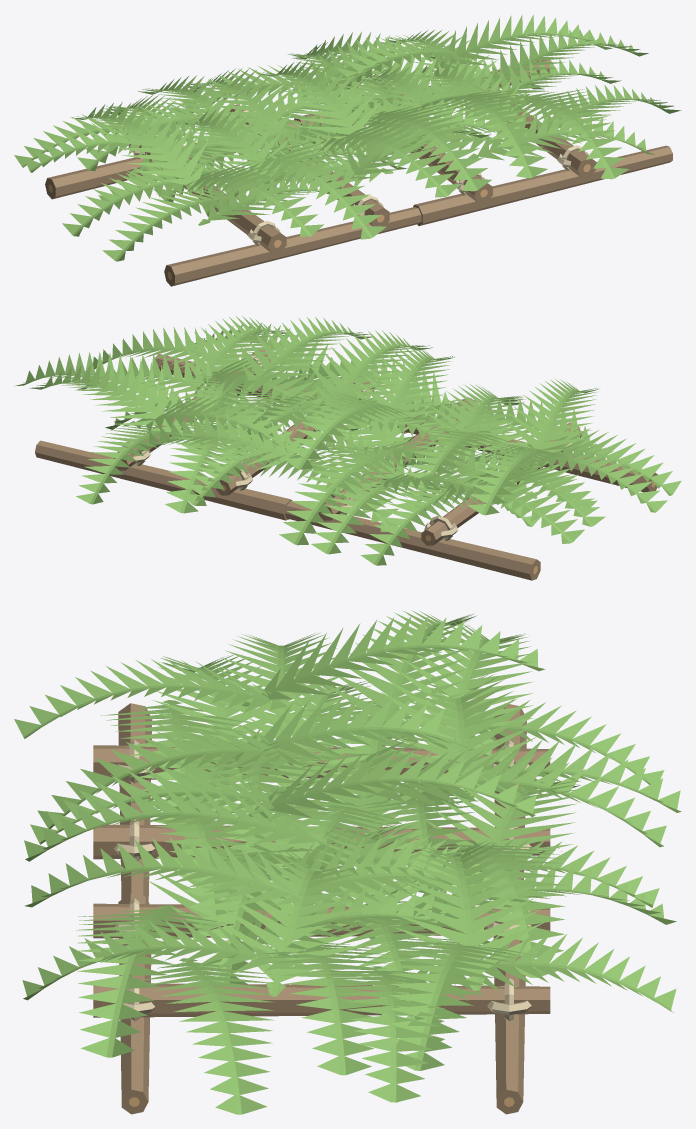
The model's file is bed_leaf.glb.
3 renders of one model, top to bottom at view 1: azimuth 30°, elevation 25°; view 2: azimuth 150°, elevation 25°; view 3: azimuth 270°, elevation 25°, orthographic. The views are drawn at different scales.
Parts seen in each view (by area): view 1: stick_01, stick_03, leaf_28, leaf_35, leaf_30, leaf_37, leaf_39, leaf_38, leaf_36, leaf_34, leaf_42, leaf_26 (+41 smaller); view 2: stick_02, leaf_42, stick_00, leaf_37, leaf_26, leaf_36, leaf_34, leaf_24, leaf_38, leaf_30, leaf_40, leaf_28 (+41 smaller); view 3: leaf_06, leaf_27, leaf_13, leaf_04, leaf_28, stick_07, leaf_26, leaf_38, leaf_12, leaf_37, leaf_20, leaf_30 (+42 smaller).
Part boxes in pixels (<box>): stick_01: <box>164,207,421,286</box>; stick_03: <box>413,145,672,225</box>; leaf_28: <box>70,102,208,195</box>; leaf_35: <box>245,141,386,239</box>; leaf_30: <box>258,59,382,152</box>; leaf_37: <box>361,101,491,191</box>; leaf_39: <box>513,89,628,179</box>; leaf_38: <box>434,89,547,178</box>; leaf_36: <box>317,117,460,197</box>; leaf_34: <box>185,161,323,236</box>; leaf_42: <box>182,68,300,138</box>; leaf_26: <box>425,14,612,72</box>; stick_02: <box>35,440,292,520</box>; leaf_42: <box>279,444,411,545</box>; stick_00: <box>285,501,540,580</box>; leaf_37: <box>308,330,432,412</box>; leaf_26: <box>29,364,182,436</box>; leaf_36: <box>350,345,454,431</box>; leaf_34: <box>502,378,598,463</box>; leaf_24: <box>130,412,318,470</box>; leaf_38: <box>239,317,371,393</box>; leaf_30: <box>283,391,409,469</box>; leaf_40: <box>360,478,479,565</box>; leaf_28: <box>467,441,577,515</box>; leaf_06: <box>132,958,275,1114</box>; leaf_27: <box>394,840,544,990</box>; leaf_13: <box>214,848,365,996</box>; leaf_04: <box>76,905,224,1057</box>; leaf_28: <box>241,616,545,706</box>; stick_07: <box>93,983,550,1017</box>; leaf_26: <box>383,937,534,1070</box>; leaf_38: <box>25,837,323,907</box>; leaf_12: <box>249,943,392,1075</box>; leaf_37: <box>24,785,333,861</box>; leaf_20: <box>318,966,455,1102</box>; leaf_30: <box>237,749,536,818</box>.
Size of the model in its own units: 2.35 by 0.3392 by 1.43.
